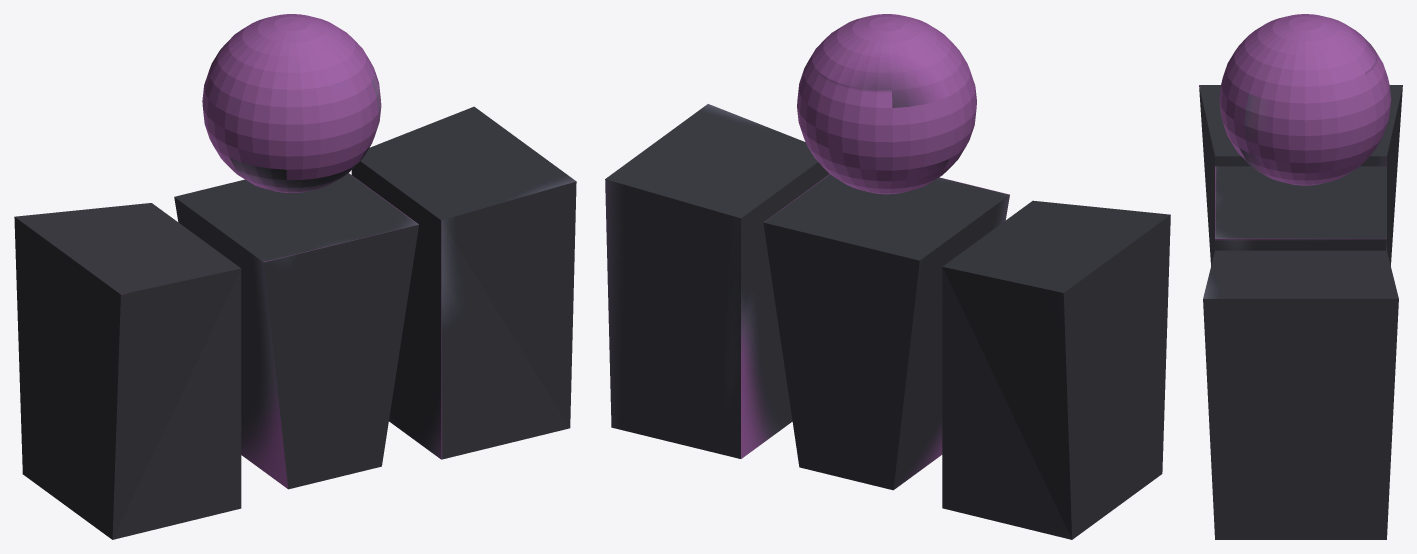
The model's file is mobi.obj.
3 views of the same model, side by side, from view 1: azimuth 30°, elevation 25°; view 2: azimuth 150°, elevation 25°; view 3: azimuth 270°, elevation 25° (orthographic). The views are drawn at different scales.
Parts seen in each view (by area): view 1: Cube.001_Cube.003; view 2: Cube.001_Cube.003; view 3: Cube.001_Cube.003.
Part boxes in pixels (x1,y1,x2,y2): Cube.001_Cube.003: (14,14,576,539); Cube.001_Cube.003: (605,14,1170,539); Cube.001_Cube.003: (1199,14,1402,539).
Bounding box in the file's own units: 4.16 × 3.71 × 1.67.
